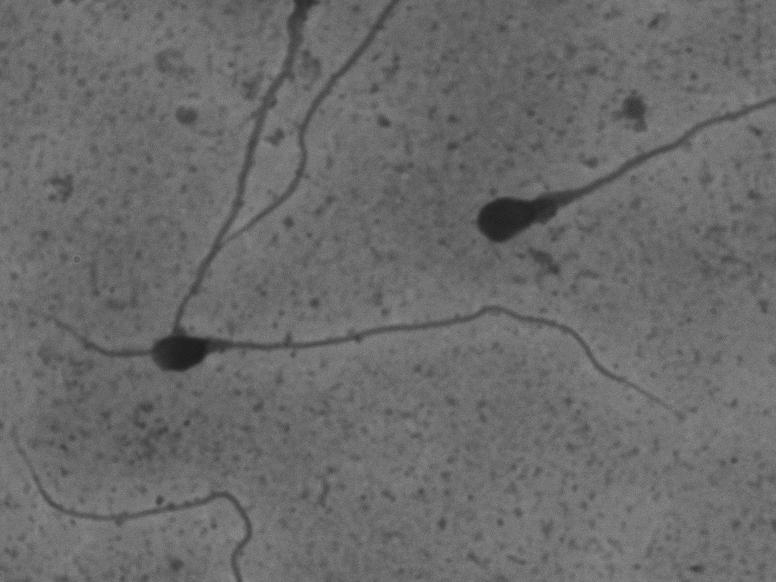Abnormal: (440, 69, 760, 270)
Normal: (146, 296, 691, 442)
